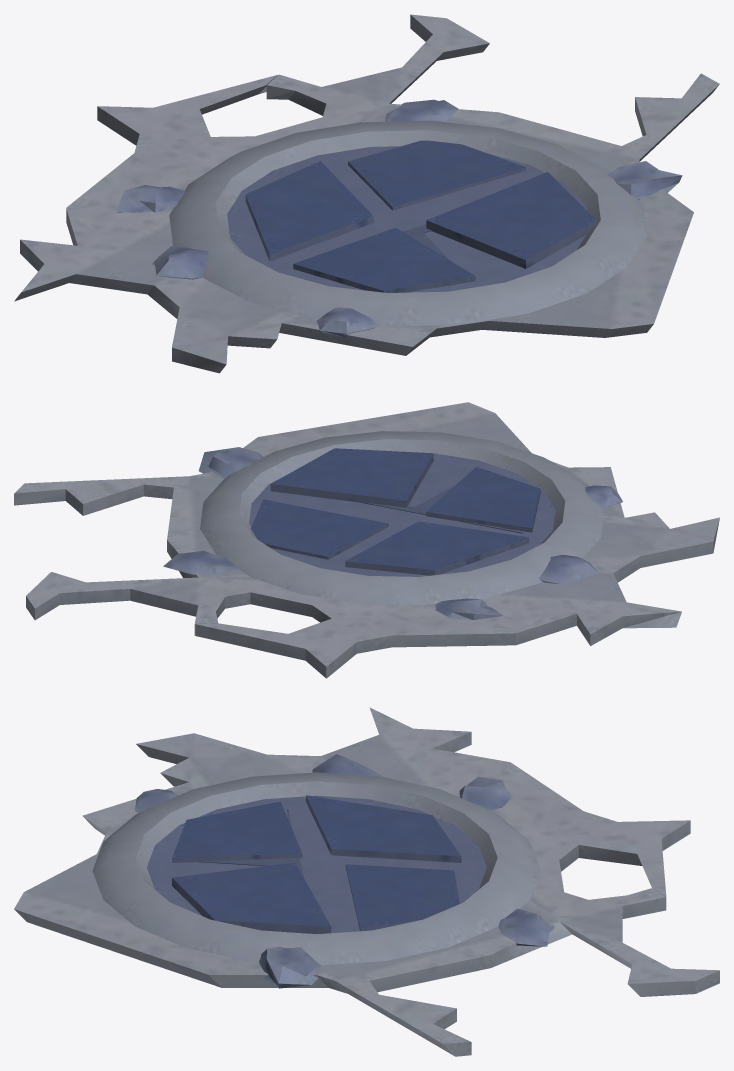
Rendered from fluorine-vent.glb.
3 renders of one model, top to bottom at view 1: azimuth 30°, elevation 25°; view 2: azimuth 150°, elevation 25°; view 3: azimuth 270°, elevation 25°, orthographic. The views are drawn at different scales.
Parts seen in each view (by area): view 1: body; view 2: body; view 3: body.
Part boxes in pixels (box(x1,y1,x2,y2)): body: box(14, 14, 719, 373); body: box(14, 402, 719, 678); body: box(14, 707, 719, 1056).
Size of the model in its own units: 2.2 by 0.0804 by 1.95.
1 material, 1 textured.
